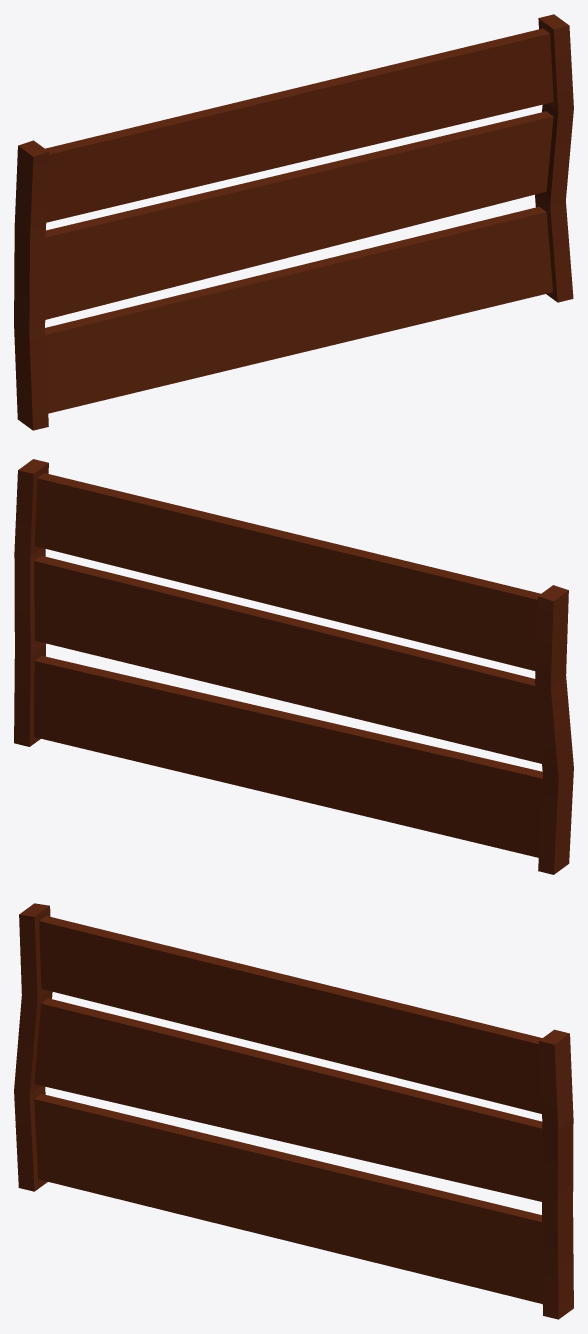
Rendered from Wall.FBX.
3 views of the same model, one above another, from view 1: azimuth 30°, elevation 25°; view 2: azimuth 150°, elevation 25°; view 3: azimuth 330°, elevation 25° (orthographic).
Visible parts, largest first — view 1: Wall; view 2: Wall; view 3: Wall.
Part boxes in pixels (left/top/right/bottom): Wall: left=14, top=14, right=573, bottom=430; Wall: left=14, top=459, right=573, bottom=874; Wall: left=14, top=903, right=573, bottom=1319.
Size of the model in its own units: 5.41 by 2.61 by 0.3315.
